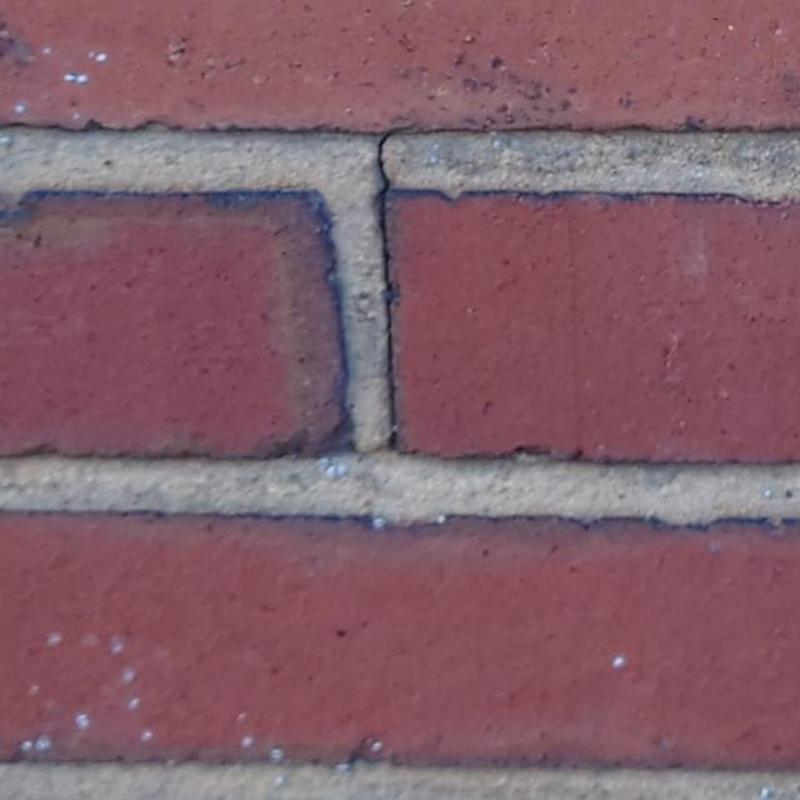pothole: (373, 131, 398, 450)
